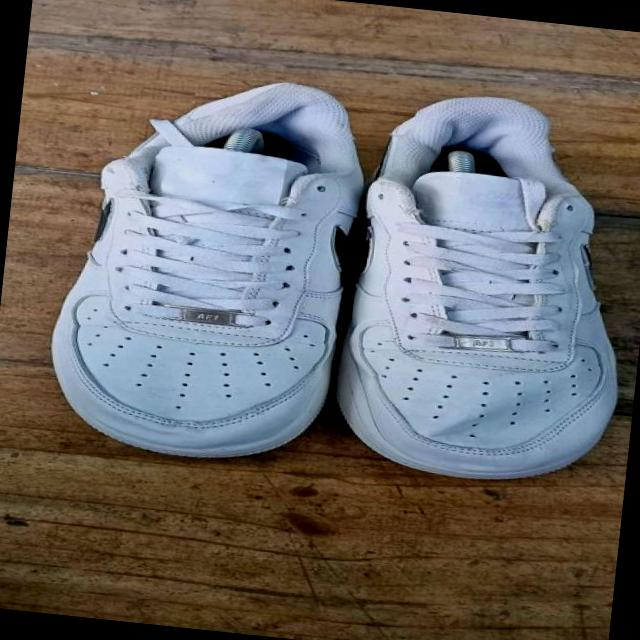nike_fake_airforce: (40, 59, 379, 472), (324, 81, 640, 493)
